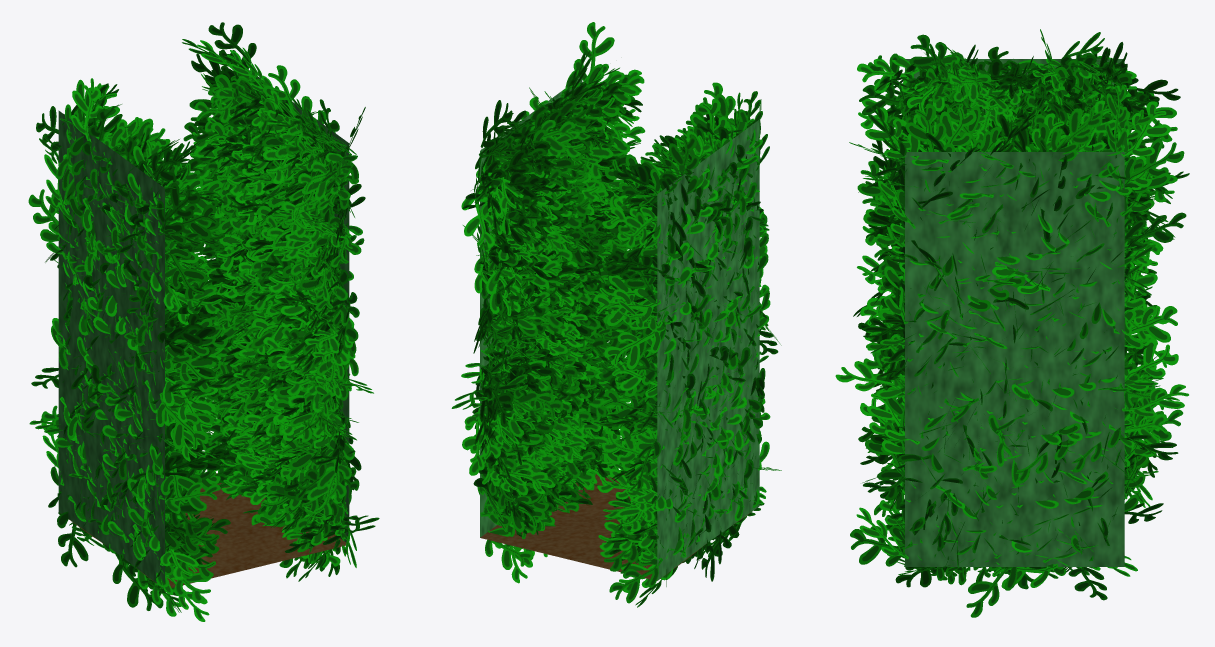
File: StraightV2.fbx
3 views of the same model, side by side, from view 1: azimuth 30°, elevation 25°; view 2: azimuth 150°, elevation 25°; view 3: azimuth 270°, elevation 25° (orthographic). The views are drawn at different scales.
Parts seen in each view (by area): view 1: StraightV2, StraightV2|Plane|Dupli|1038, StraightV2|Plane|Dupli|1198, StraightV2|Plane|Dupli|1326, StraightV2|Plane|Dupli|1201, StraightV2|Plane|Dupli|436, StraightV2|Plane|Dupli|1448, StraightV2|Plane|Dupli|1414, StraightV2|Plane|Dupli|1251, StraightV2|Plane|Dupli|476, StraightV2|Plane|Dupli|1220, StraightV2|Plane|Dupli|845 (+25 smaller); view 2: StraightV2, StraightV2|Plane|Dupli|788, StraightV2|Plane|Dupli|593, StraightV2|Plane|Dupli|854, StraightV2|Plane|Dupli|929, StraightV2|Plane|Dupli|224, StraightV2|Plane|Dupli|783, StraightV2|Plane|Dupli|606, StraightV2|Plane|Dupli|863, StraightV2|Plane|Dupli|1602, StraightV2|Plane|Dupli|984, StraightV2|Plane|Dupli|611 (+23 smaller); view 3: StraightV2, StraightV2|Plane|Dupli|1770, StraightV2|Plane|Dupli|1539, StraightV2|Plane|Dupli|1626, StraightV2|Plane|Dupli|1971, StraightV2|Plane|Dupli|247, StraightV2|Plane|Dupli|1647, StraightV2|Plane|Dupli|1941, StraightV2|Plane|Dupli|378, StraightV2|Plane|Dupli|1785, StraightV2|Plane|Dupli|94, StraightV2|Plane|Dupli|1037 (+27 smaller).
Part boxes in pixels (box(x1,y1,x2,y2)): StraightV2: box(58, 69, 349, 587); StraightV2|Plane|Dupli|1038: box(156, 392, 208, 449); StraightV2|Plane|Dupli|1198: box(157, 182, 199, 233); StraightV2|Plane|Dupli|1326: box(156, 248, 207, 302); StraightV2|Plane|Dupli|1201: box(162, 377, 215, 431); StraightV2|Plane|Dupli|436: box(263, 65, 312, 119); StraightV2|Plane|Dupli|1448: box(152, 447, 200, 513); StraightV2|Plane|Dupli|1414: box(165, 512, 219, 553); StraightV2|Plane|Dupli|1251: box(112, 554, 163, 610); StraightV2|Plane|Dupli|476: box(317, 443, 354, 498); StraightV2|Plane|Dupli|1220: box(160, 346, 216, 392); StraightV2|Plane|Dupli|845: box(71, 85, 103, 142); StraightV2: box(480, 78, 759, 580); StraightV2|Plane|Dupli|788: box(593, 287, 660, 325); StraightV2|Plane|Dupli|593: box(604, 320, 662, 369); StraightV2|Plane|Dupli|854: box(609, 558, 662, 603); StraightV2|Plane|Dupli|929: box(601, 427, 662, 474); StraightV2|Plane|Dupli|224: box(573, 22, 614, 80); StraightV2|Plane|Dupli|783: box(602, 390, 657, 429); StraightV2|Plane|Dupli|606: box(605, 154, 664, 205); StraightV2|Plane|Dupli|863: box(623, 206, 660, 248); StraightV2|Plane|Dupli|1602: box(485, 527, 533, 569); StraightV2|Plane|Dupli|984: box(669, 134, 698, 194); StraightV2|Plane|Dupli|611: box(597, 468, 657, 501); StraightV2: box(905, 59, 1124, 566); StraightV2|Plane|Dupli|1770: box(1113, 306, 1177, 349); StraightV2|Plane|Dupli|1539: box(1120, 138, 1184, 193); StraightV2|Plane|Dupli|1626: box(1124, 338, 1178, 391); StraightV2|Plane|Dupli|1971: box(1118, 101, 1170, 156); StraightV2|Plane|Dupli|247: box(850, 525, 912, 566); StraightV2|Plane|Dupli|1647: box(1050, 108, 1102, 161); StraightV2|Plane|Dupli|1941: box(966, 567, 1017, 617); StraightV2|Plane|Dupli|378: box(835, 361, 904, 398); StraightV2|Plane|Dupli|1785: box(1124, 212, 1186, 250); StraightV2|Plane|Dupli|94: box(857, 161, 905, 216); StraightV2|Plane|Dupli|1037: box(857, 55, 918, 93).
Size of the model in its own units: 159 by 329 by 205.
